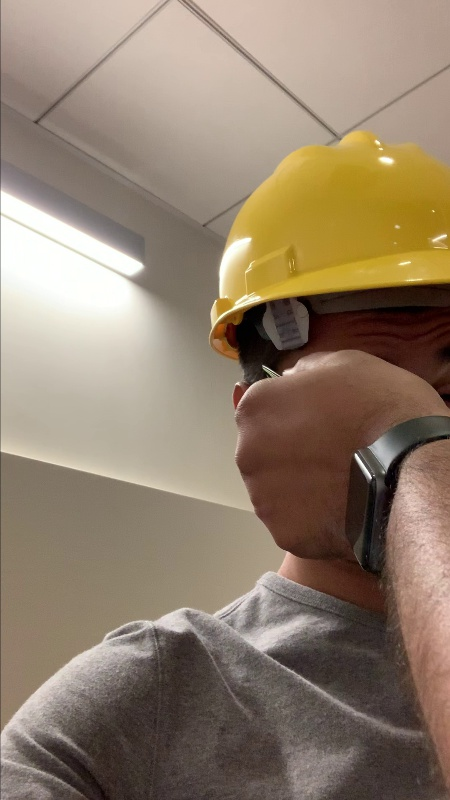helmet: (207, 123, 449, 329)
